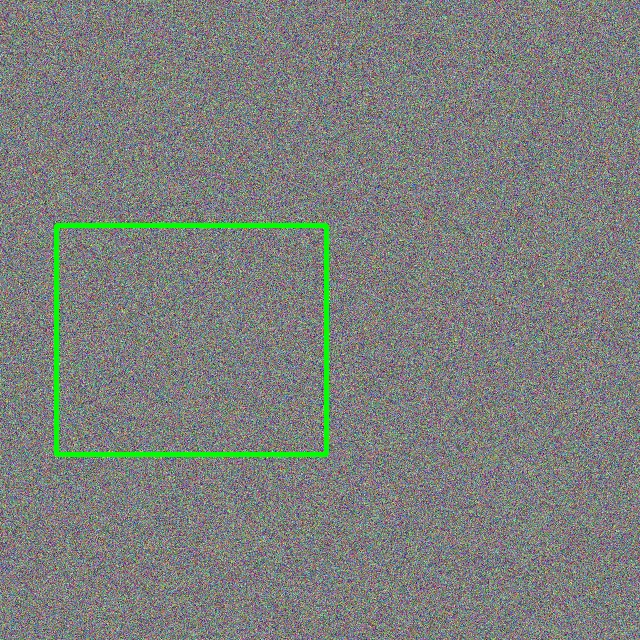base: (56, 225, 326, 454)
